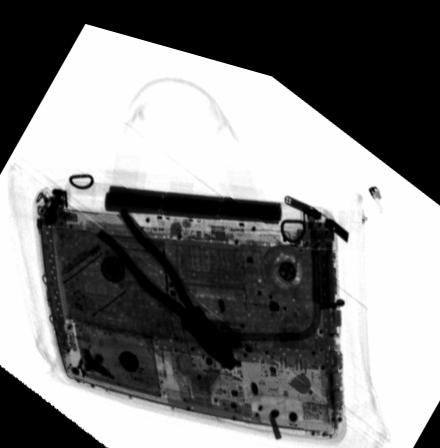Pliers: (94, 196, 238, 359)
